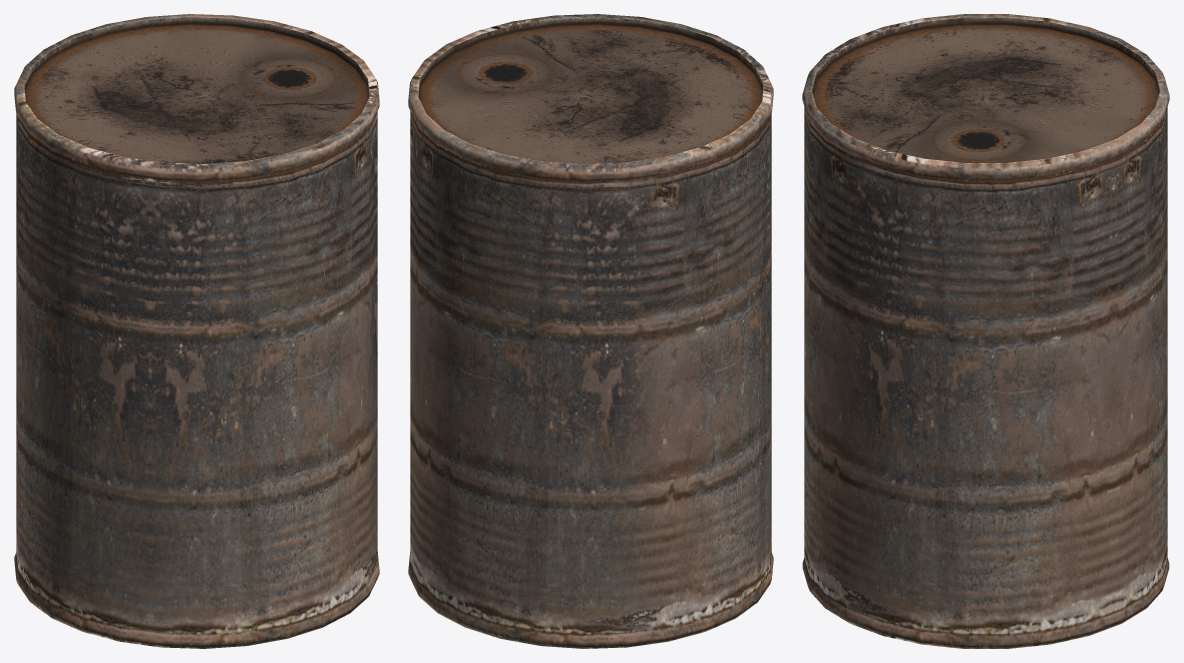
Rendered from Barrel 1.fbx.
3 renders of one model, left to right at view 1: azimuth 30°, elevation 25°; view 2: azimuth 150°, elevation 25°; view 3: azimuth 270°, elevation 25°, orthographic.
Visible parts, largest first — view 1: Cylinder; view 2: Cylinder; view 3: Cylinder.
Part boxes in pixels (x1,y1,x2,y2): Cylinder: (14,14,379,648); Cylinder: (408,14,773,648); Cylinder: (802,14,1169,648).
Bounding box in the file's own units: 56.22 × 82.11 × 56.64.
